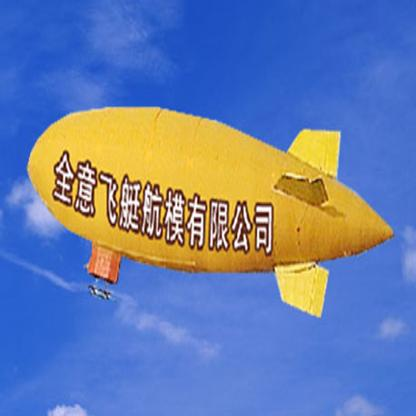Airship: (26, 103, 397, 319)
